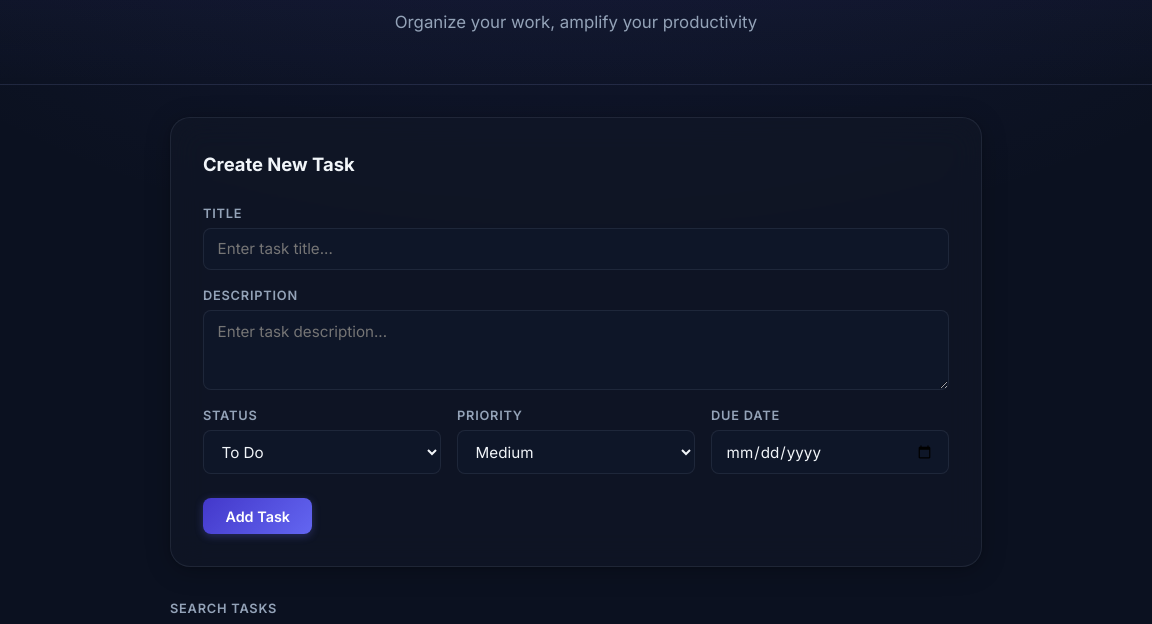
Scenario: Dashboard › creating a task › shows validation errors when submitting invalid fields
Click the button "Add Task" at (258, 516), box top-left (203, 498), bottom-right (312, 534)
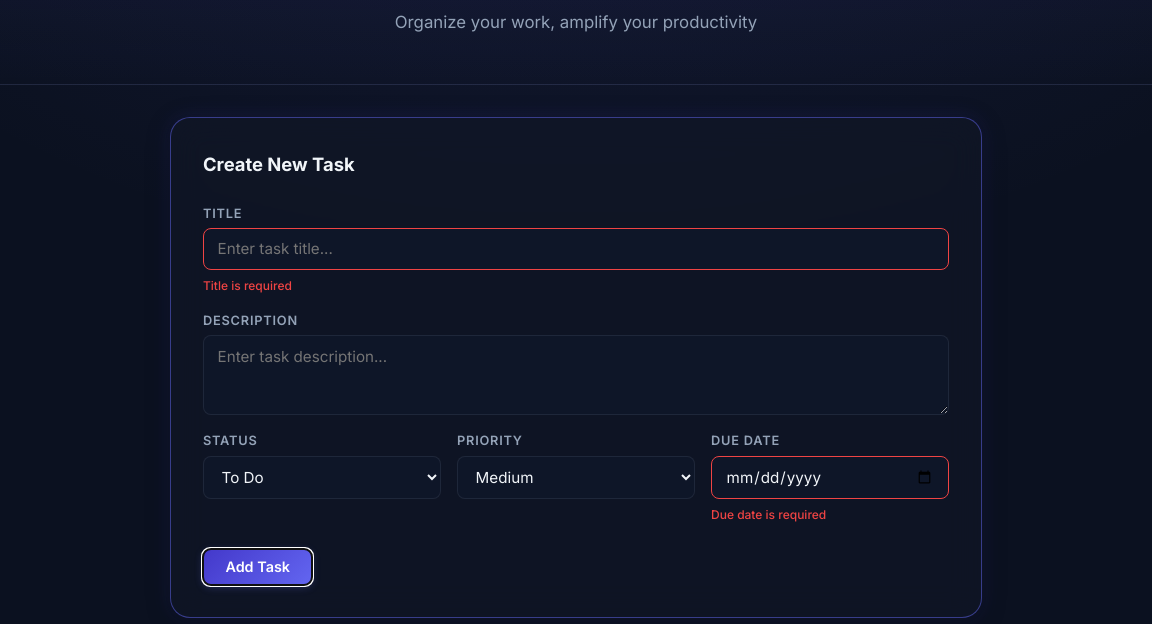
Check: the text with test id "title-error" reads "Title is required", box top-left (203, 278), bottom-right (292, 293)
Check: the text with test id "due-date-error" reads "Due date is required", box top-left (711, 507), bottom-right (826, 522)
Type in title and check that title error disappears
Type "Valid Title" into the field labelled "Title" at (576, 249), box top-left (203, 228), bottom-right (949, 270)
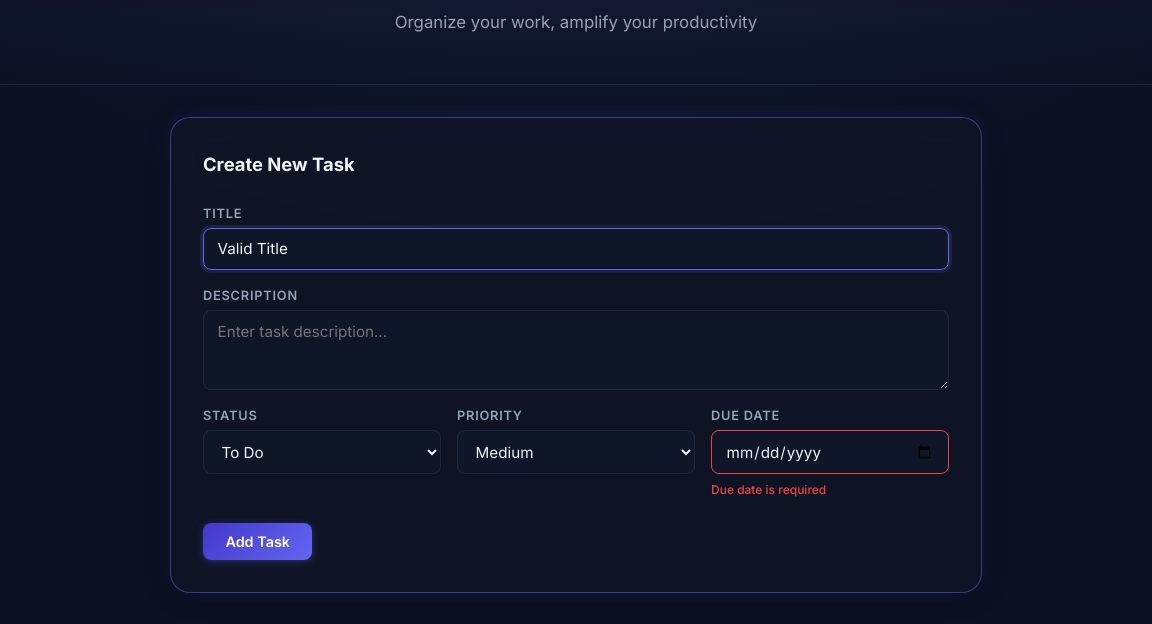
Check: the text with test id "title-error" is gone
Set due date and check that due-date error disappears
Type "2026-06-10" into the date field labelled "Due Date" at (830, 452), box top-left (711, 430), bottom-right (949, 474)
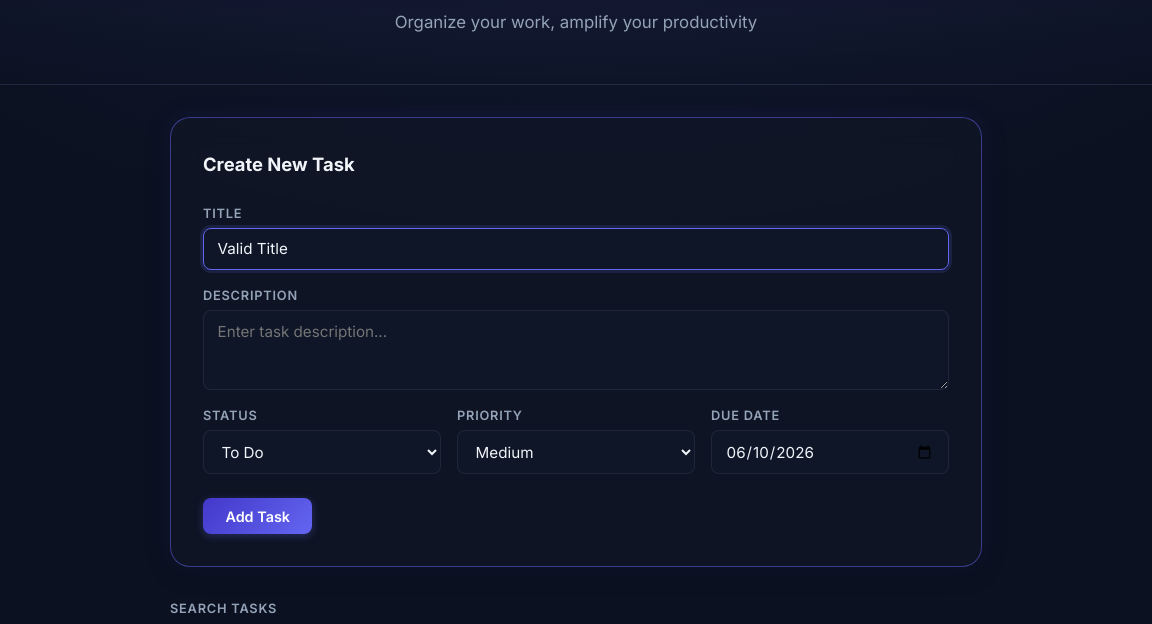
Check: the text with test id "due-date-error" is gone
Submit and verify task is added
Click the button "Add Task" at (258, 516), box top-left (203, 498), bottom-right (312, 534)
(page scrolled)
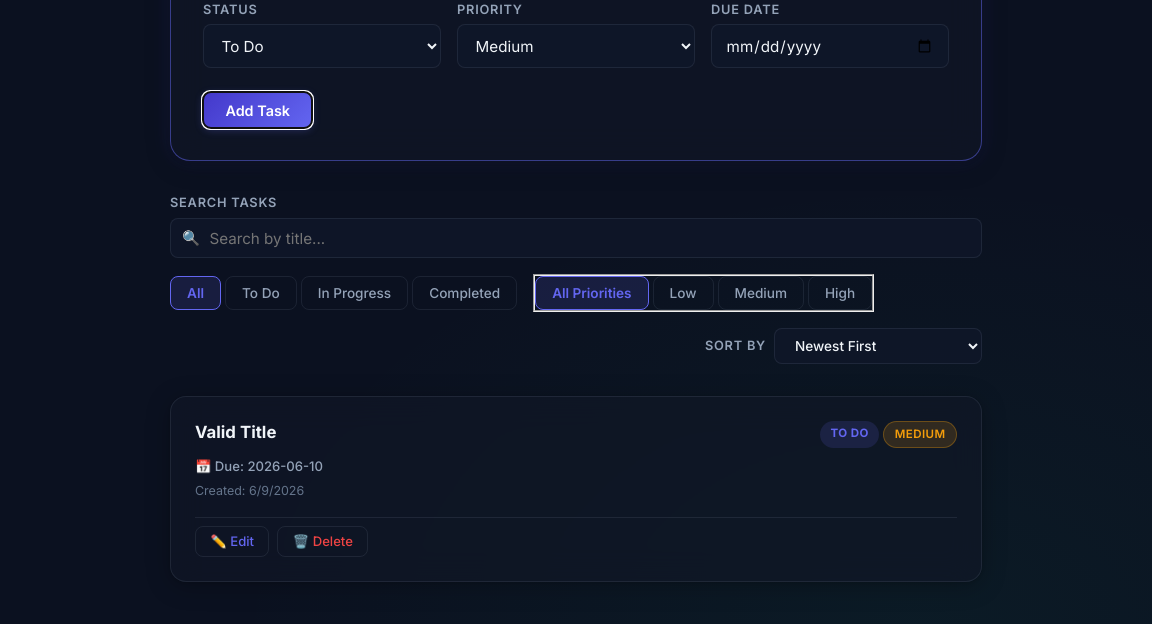
Check: the heading "Valid Title" is shown, box top-left (195, 421), bottom-right (276, 445)
